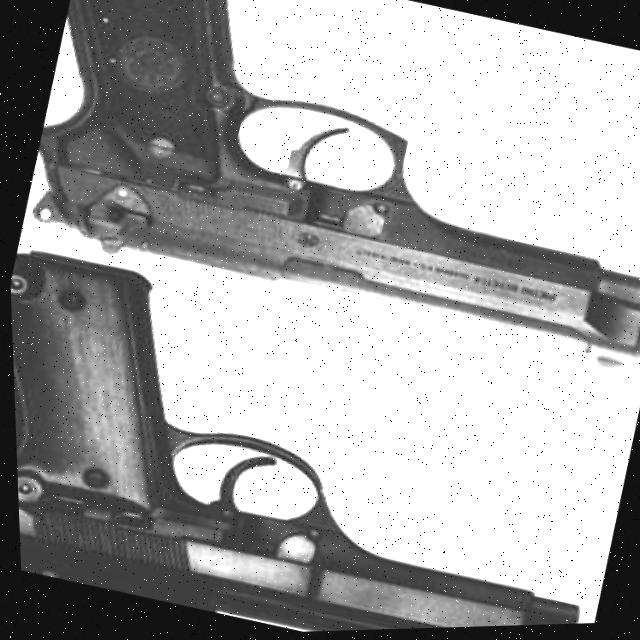pistol: (7, 232, 640, 640), (8, 0, 640, 401)
